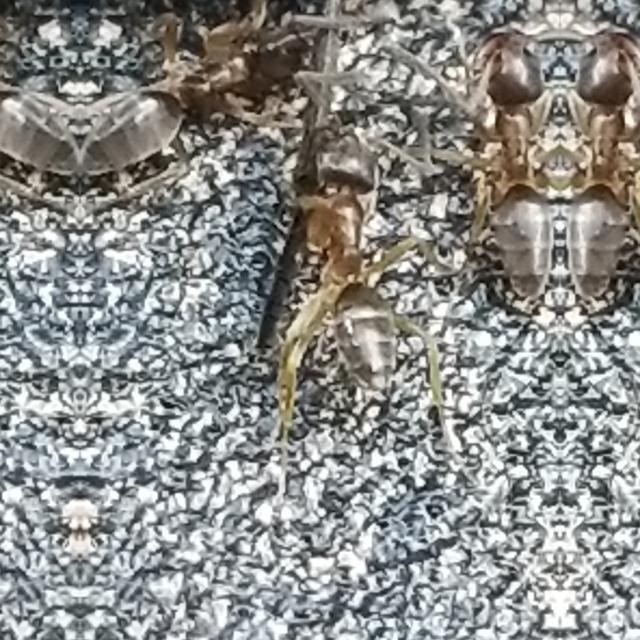Tapinoma: (230, 129, 448, 443), (80, 0, 316, 206), (447, 2, 557, 310), (562, 2, 640, 310), (0, 0, 80, 206)
